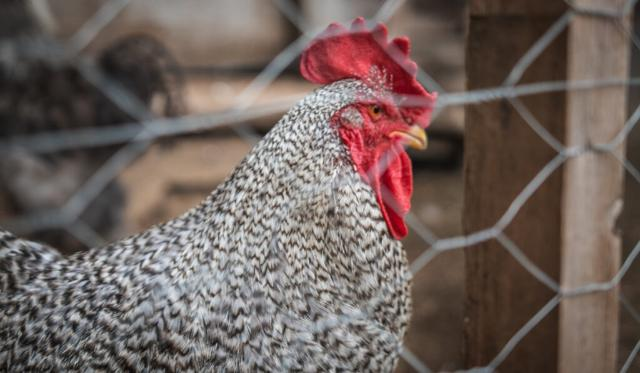Chicken: (0, 16, 438, 373)
